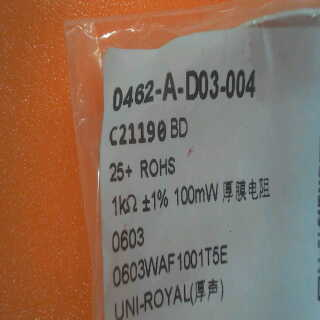1kR: (112, 186, 140, 219)
